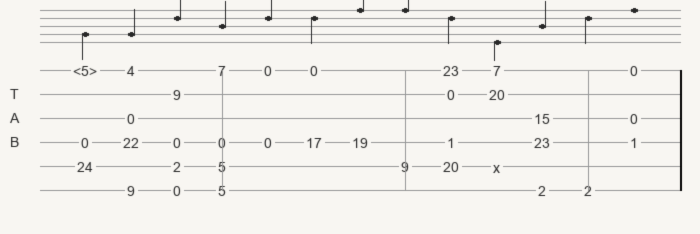0: (81, 135, 93, 149), (127, 111, 139, 125), (173, 183, 185, 197), (173, 135, 185, 149), (218, 135, 230, 149), (264, 63, 276, 77), (264, 135, 276, 149), (310, 63, 322, 77), (447, 87, 459, 101), (630, 63, 642, 77), (630, 111, 642, 125)
1: (447, 135, 459, 149), (630, 135, 642, 149)
15: (534, 111, 554, 125)
17: (306, 135, 326, 149)
19: (352, 135, 372, 149)
2: (173, 159, 185, 173), (538, 183, 550, 197), (584, 183, 596, 197)
20: (443, 159, 463, 173), (489, 87, 509, 101)
22: (123, 135, 143, 149)
23: (443, 63, 463, 77), (534, 135, 554, 149)
24: (77, 159, 97, 173)
4: (127, 63, 139, 77)
5: (218, 183, 230, 197), (218, 159, 230, 173)
7: (218, 63, 230, 77), (493, 63, 505, 77)
9: (127, 183, 139, 197), (173, 87, 185, 101), (401, 159, 413, 173)
harmonic: (73, 63, 101, 77)
x: (493, 160, 504, 172)
